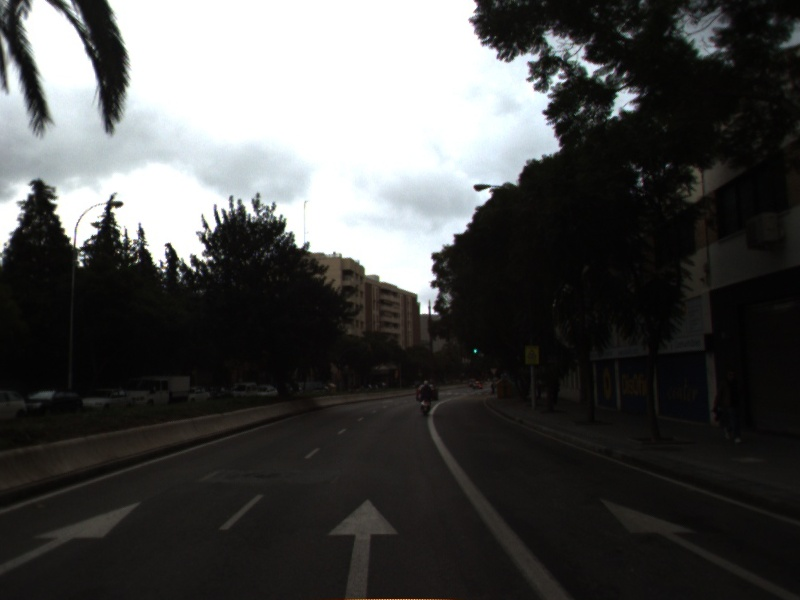STRAIGHT: (596, 495, 800, 600), (1, 498, 145, 575), (323, 495, 404, 600)
